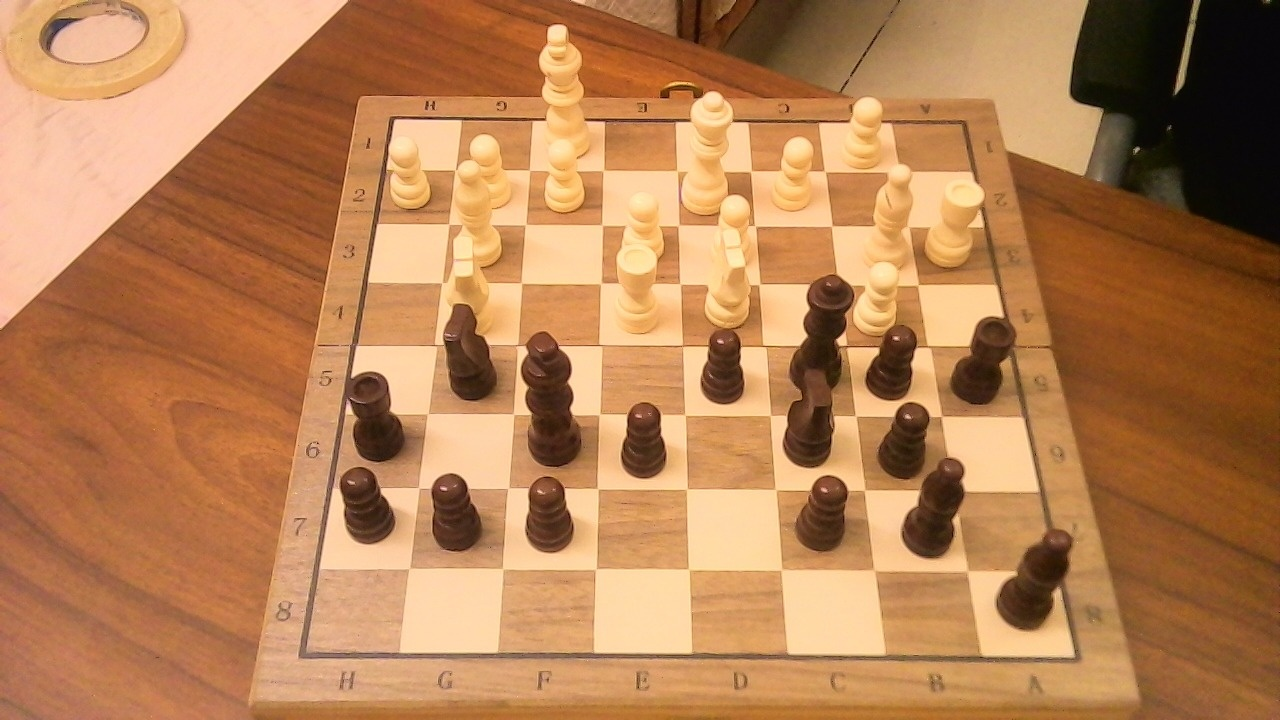B: (862, 153, 922, 274)
K: (534, 13, 597, 162)
N: (692, 238, 759, 328), (456, 234, 498, 314)
P: (448, 148, 513, 271), (610, 181, 671, 280), (764, 127, 823, 216), (459, 126, 518, 213), (535, 129, 592, 216), (833, 87, 891, 171), (382, 129, 437, 211), (857, 252, 907, 340), (707, 187, 758, 268)
Q: (680, 78, 742, 221)
R: (921, 169, 991, 273), (606, 232, 669, 340)
b: (989, 513, 1085, 637), (919, 444, 979, 564)
k: (517, 321, 595, 469)
n: (434, 288, 508, 404), (777, 383, 853, 470)
p: (332, 456, 405, 547), (789, 464, 860, 554), (860, 313, 928, 402), (880, 400, 942, 480), (618, 400, 670, 478), (432, 473, 482, 552), (522, 477, 576, 550), (700, 330, 745, 405)
q: (781, 261, 863, 394)
r: (945, 302, 1025, 409), (342, 359, 415, 464)
